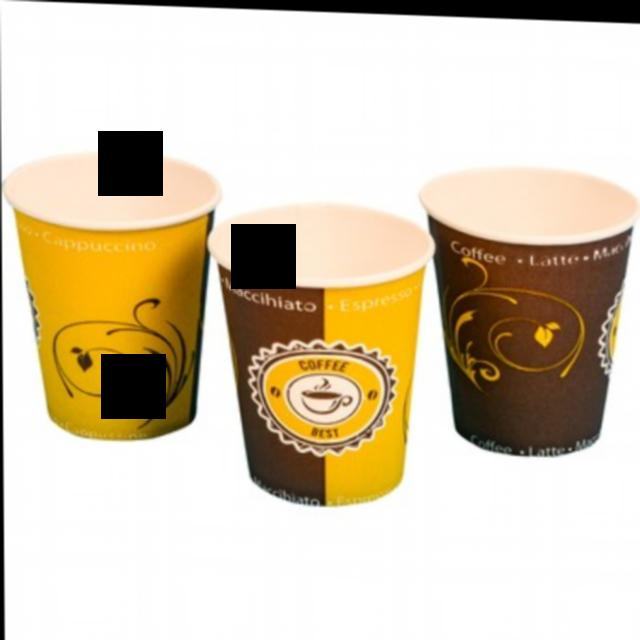karton-bardak: (394, 144, 635, 494), (217, 181, 439, 540), (4, 136, 214, 443)
